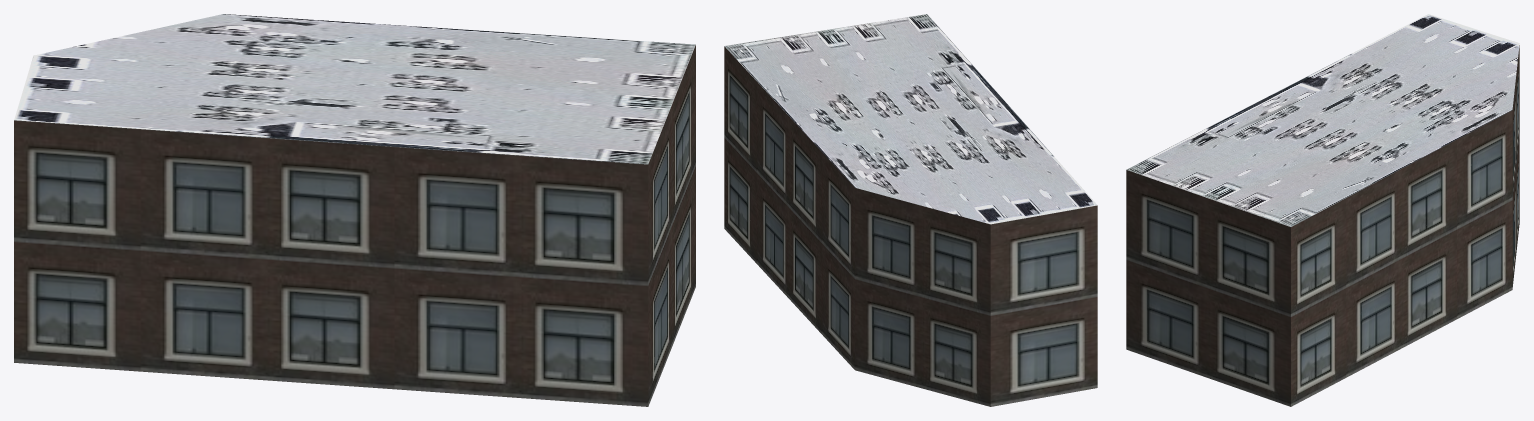
The model's file is ResTex__3477.fbx.
The picture shows the model from 3 angles, left to right: view 1: azimuth 30°, elevation 25°; view 2: azimuth 150°, elevation 25°; view 3: azimuth 270°, elevation 25°; orthographic projection. The views are drawn at different scales.
Visible parts, largest first — view 1: CityEngineMaterial_16_m, CityEngineMaterial_15_m; view 2: CityEngineMaterial_16_m, CityEngineMaterial_15_m; view 3: CityEngineMaterial_16_m, CityEngineMaterial_15_m.
Part boxes in pixels (x1=…): CityEngineMaterial_16_m: x1=14, y1=45, x2=695, y2=406; CityEngineMaterial_15_m: x1=14, y1=14, x2=695, y2=164; CityEngineMaterial_16_m: x1=724, y1=46, x2=1097, y2=406; CityEngineMaterial_15_m: x1=724, y1=14, x2=1097, y2=224; CityEngineMaterial_16_m: x1=1126, y1=45, x2=1519, y2=406; CityEngineMaterial_15_m: x1=1126, y1=14, x2=1519, y2=226.
Size of the model in its own units: 15.25 by 6 by 11.9.
2 materials, 2 textured.
